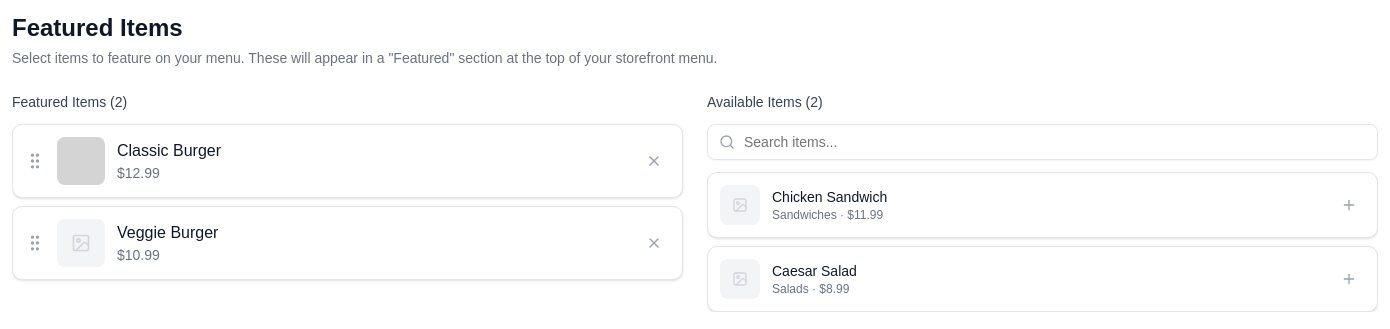
FeaturedItemsClient › Search Functionality › should filter available items by category name
Type "salads" into the field with placeholder "Search items..." at (1042, 142), box [707,124,1378,160]
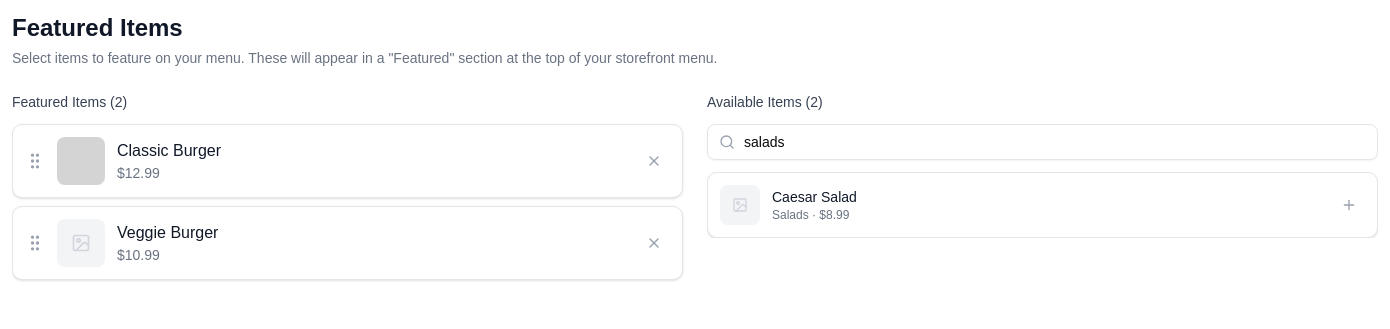
Expected: the text "Caesar Salad" is shown, [772,189,857,205]
Now the text "Chicken Sandwich" is gone
